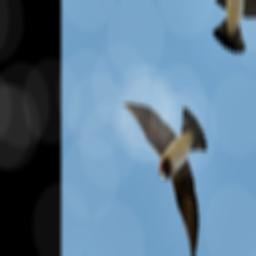Swallow: (99, 57, 235, 256)
